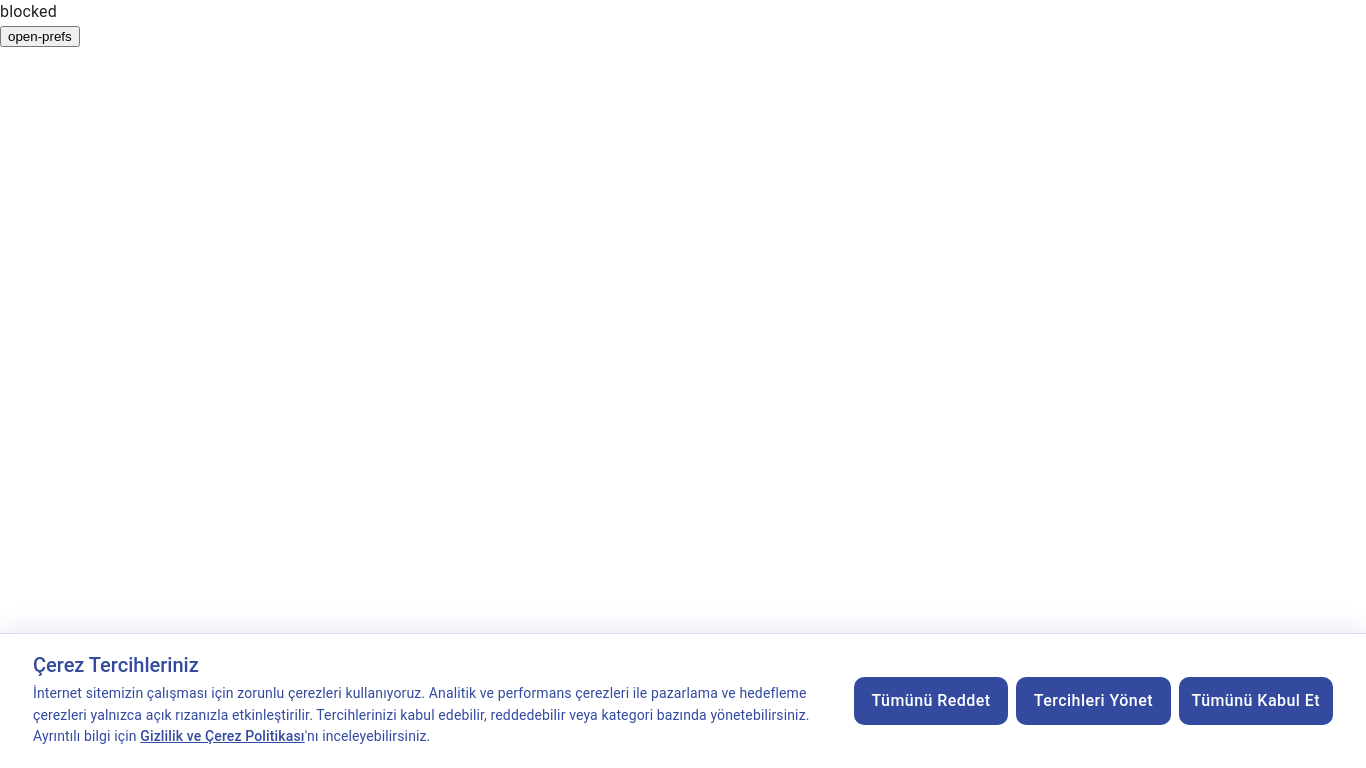
Test: CookieConsentProvider — banner actions › accept-all enables every optional category and toasts
Click the button "Tümünü Kabul Et" at (1256, 701), box x1=1179 y1=677 x2=1333 y2=725
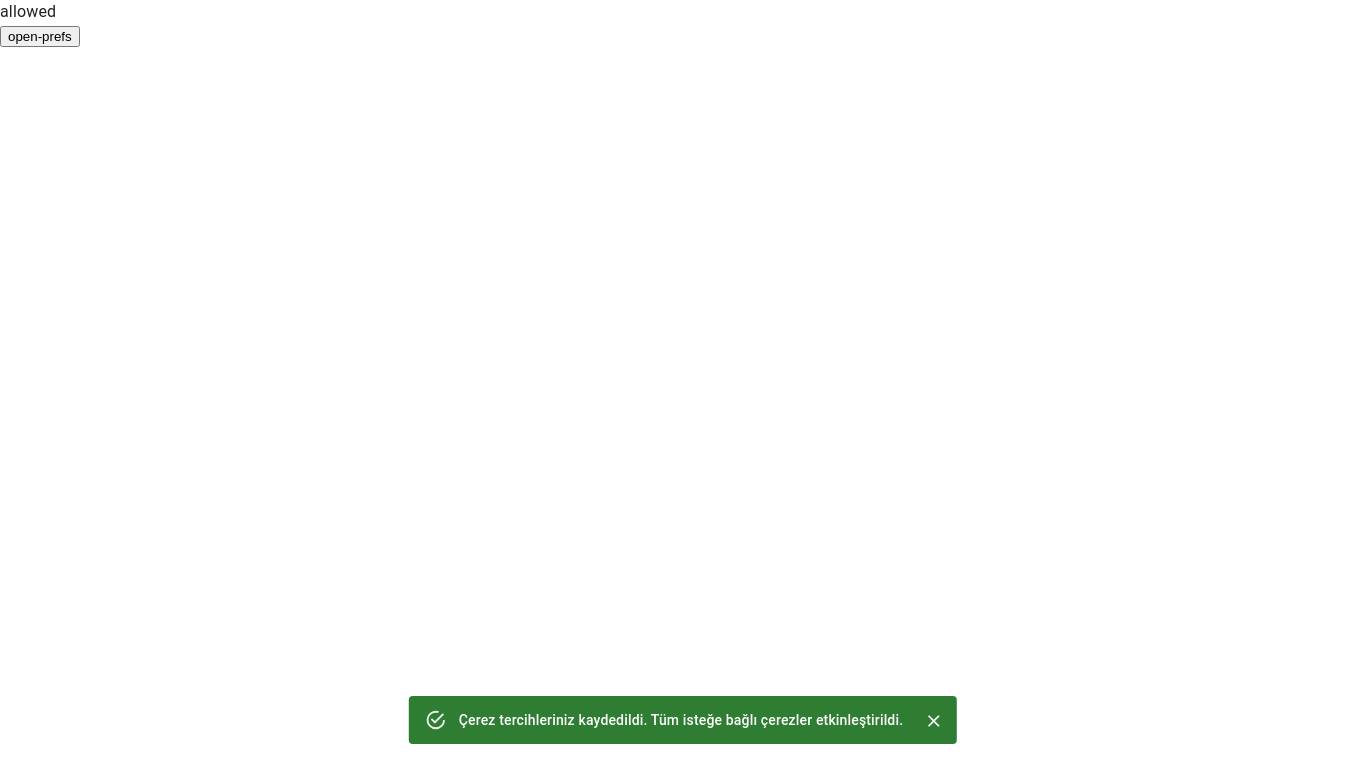
Check: the text with test id "analytics-gate" reads "allowed", box x1=0 y1=2 x2=56 y2=21
Check: the text "Çerez tercihleriniz kaydedildi. Tüm isteğe bağlı çerezler etkinleştirildi." is shown, box x1=459 y1=712 x2=903 y2=728
